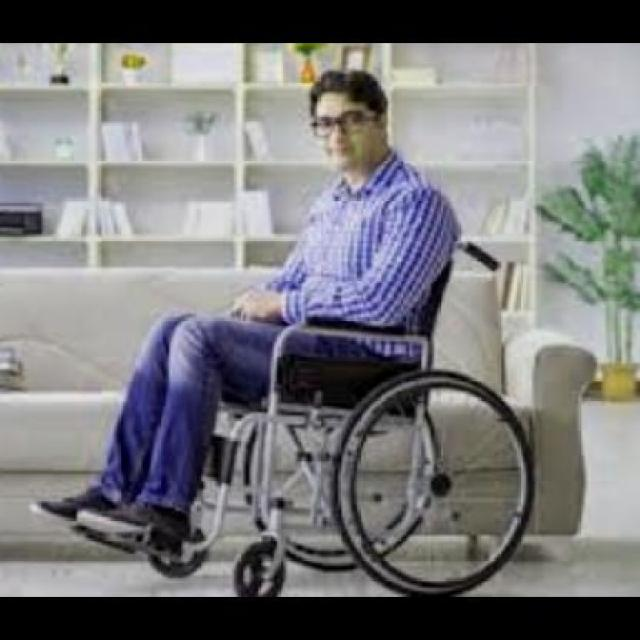wheelchairs: (144, 228, 538, 596)
